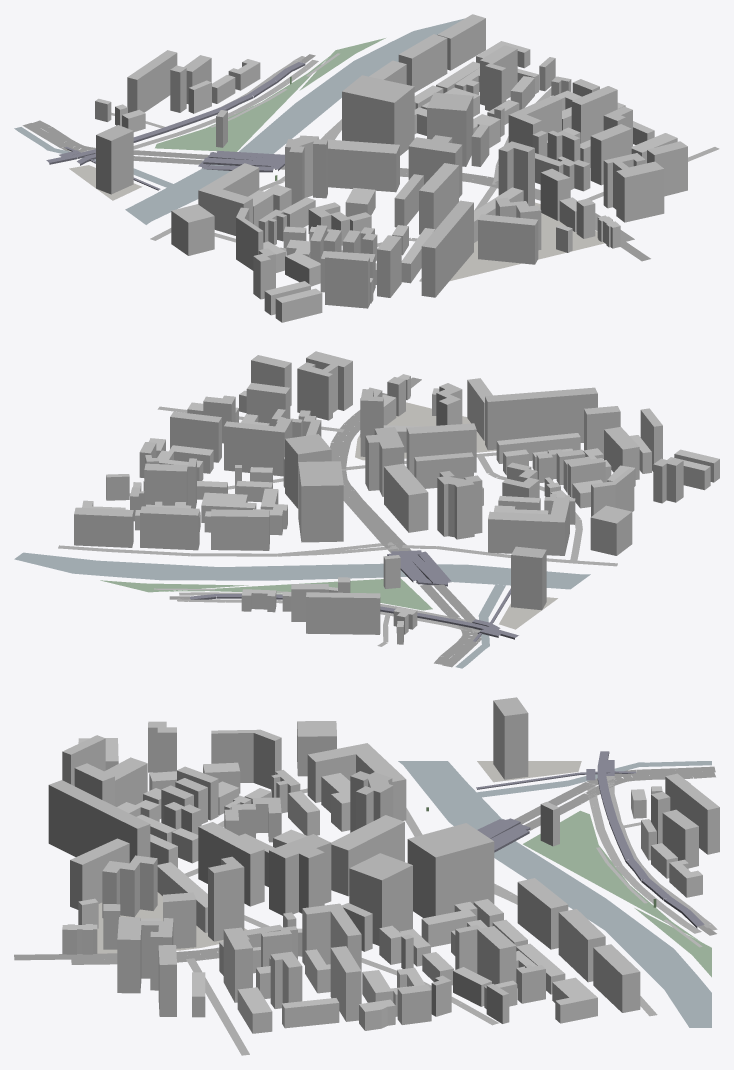
3 renders of one model, top to bottom at view 1: azimuth 30°, elevation 25°; view 2: azimuth 150°, elevation 25°; view 3: azimuth 270°, elevation 25°, orthographic. The views are drawn at different scales.
Size of the model in its own units: 565 by 62.13 by 559.
